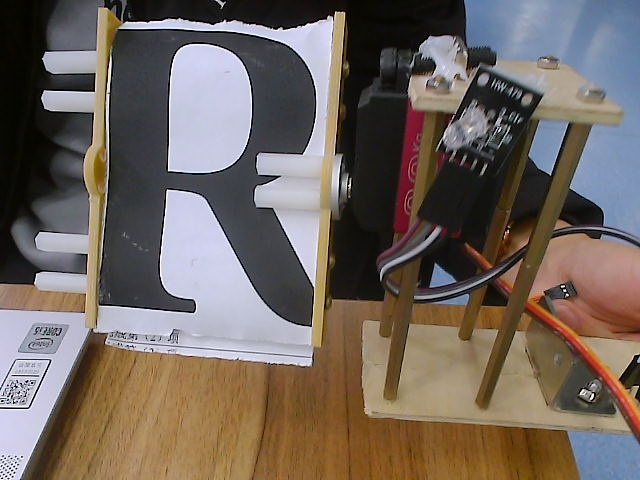R: (23, 1, 384, 394)
